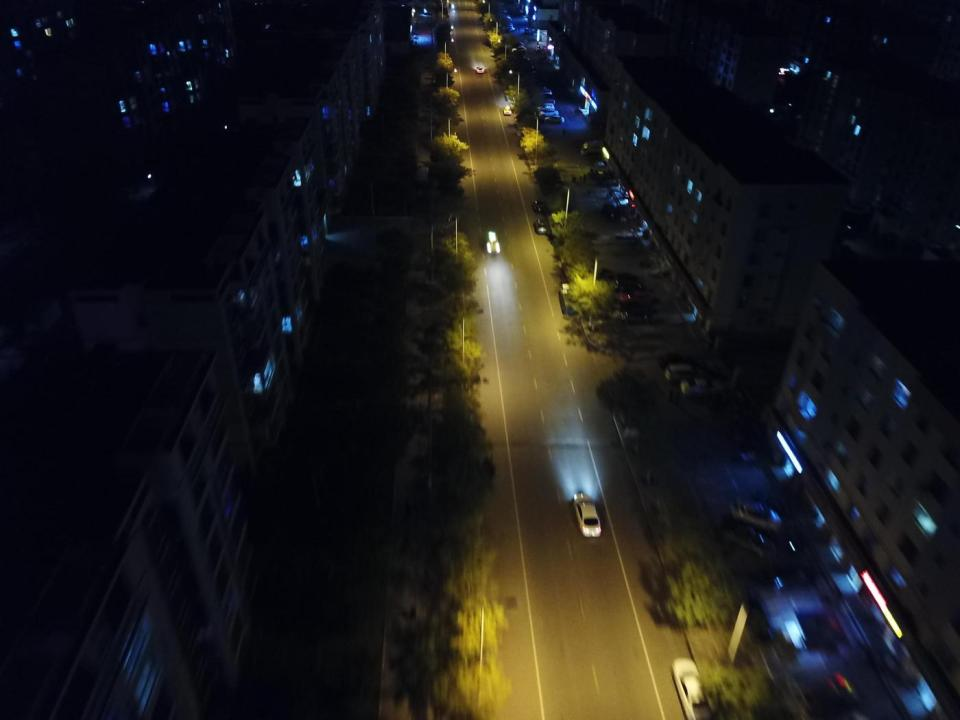car: (748, 580, 808, 660), (671, 656, 709, 720), (723, 521, 776, 563), (731, 500, 781, 533), (574, 492, 601, 536), (679, 376, 722, 398), (658, 353, 692, 370), (619, 301, 655, 314), (620, 290, 651, 305), (620, 311, 652, 325), (614, 280, 644, 293), (610, 274, 638, 286), (486, 230, 500, 250), (603, 204, 618, 222), (534, 219, 548, 232), (545, 116, 564, 124), (540, 110, 558, 117), (534, 200, 544, 212), (537, 104, 554, 111), (539, 88, 552, 96), (511, 46, 526, 52), (503, 105, 511, 114), (476, 65, 484, 73), (520, 56, 530, 62), (503, 24, 512, 30), (499, 8, 508, 13), (505, 22, 513, 27), (501, 14, 510, 18), (535, 45, 541, 51), (516, 42, 524, 46), (525, 28, 530, 34), (508, 28, 515, 31), (527, 66, 534, 69), (414, 32, 419, 36), (413, 36, 418, 39)
truck: (560, 283, 576, 314)
van: (665, 364, 707, 382), (580, 141, 604, 155), (541, 98, 556, 105)
